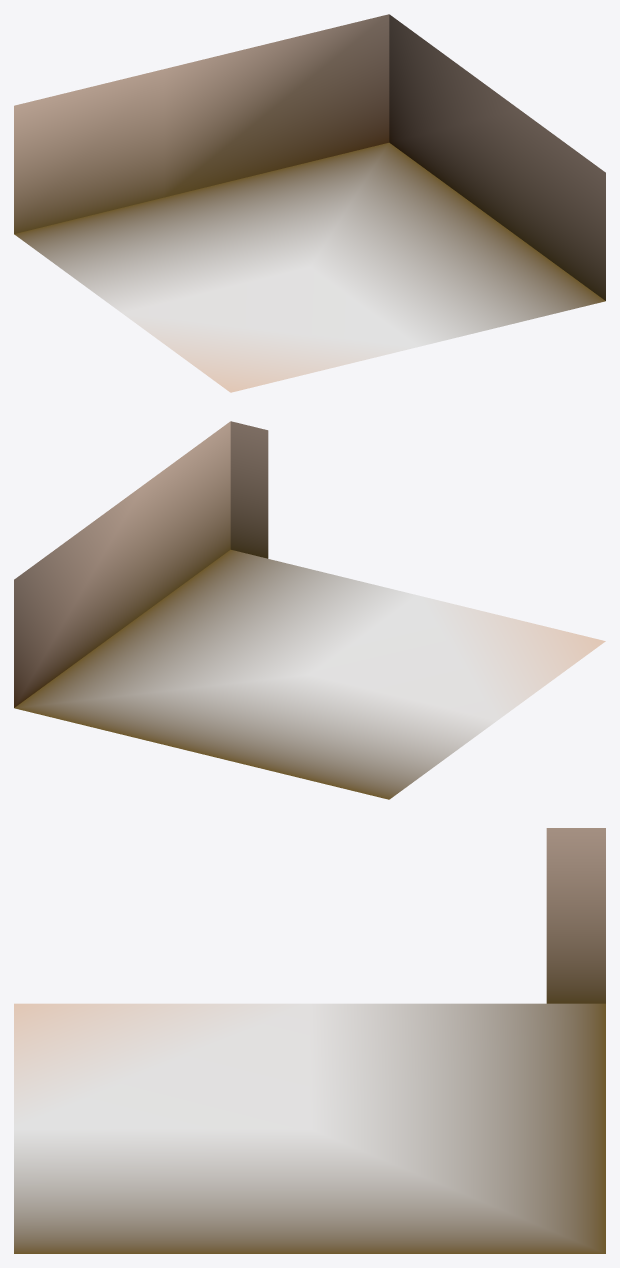
The model's file is map.glb.
3 renders of one model, top to bottom at view 1: azimuth 30°, elevation 25°; view 2: azimuth 150°, elevation 25°; view 3: azimuth 270°, elevation 25°, orthographic. The views are drawn at different scales.
Parts seen in each view (by area): view 1: Plane; view 2: Plane; view 3: Plane.
Part boxes in pixels (bbox=[...]): Plane: bbox=[14, 14, 605, 392]; Plane: bbox=[14, 421, 605, 799]; Plane: bbox=[14, 828, 605, 1253].
Size of the model in its own units: 10 by 3.27 by 10.
